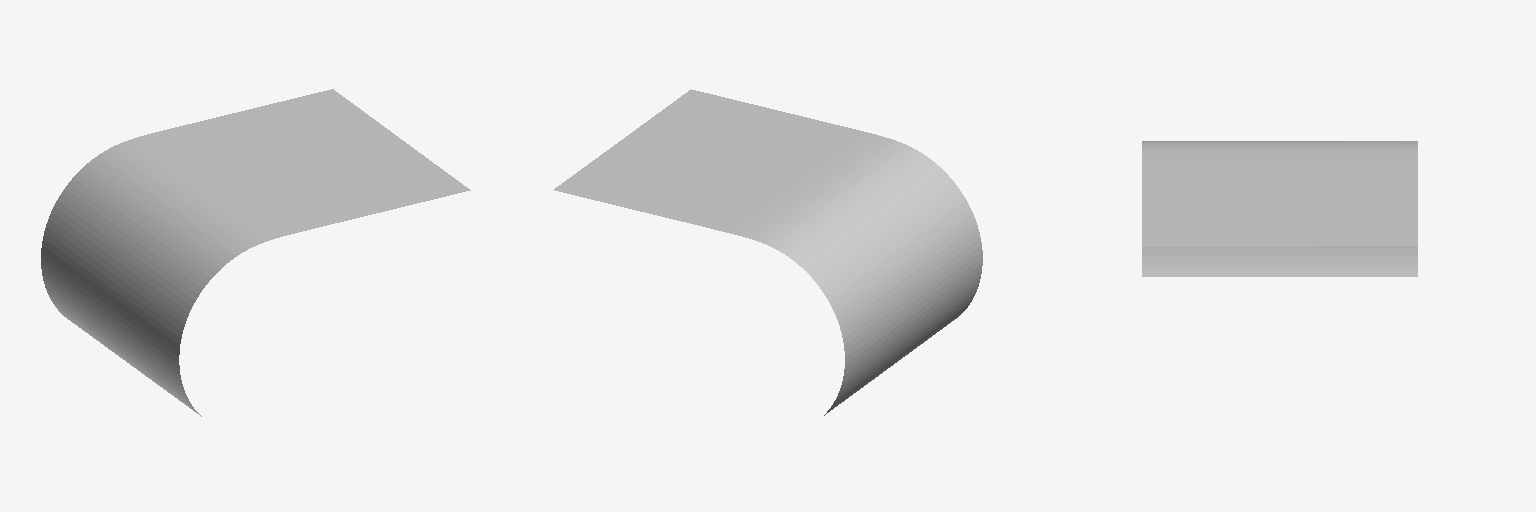
File: CurvePaper_000048.obj
3 renders of one model, left to right at view 1: azimuth 30°, elevation 25°; view 2: azimuth 150°, elevation 25°; view 3: azimuth 270°, elevation 25°, orthographic.
Visible parts, largest first — view 1: Plane; view 2: Plane; view 3: Plane.
Boxes of the visible parts, x1=… form: Plane: x1=41, y1=89, x2=470, y2=416; Plane: x1=554, y1=89, x2=982, y2=415; Plane: x1=1142, y1=141, x2=1417, y2=276.
Size of the model in its own units: 2.76 by 1.46 by 2.26.